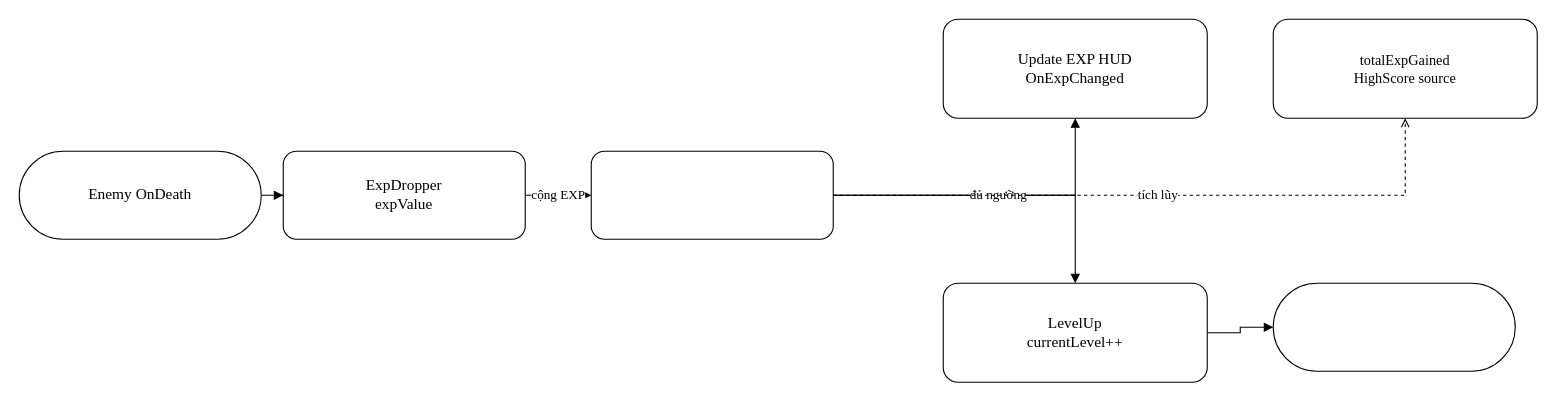
Image size: 1557x402. Some labels were removed from this diagram. The shapes that lost their labels are listed below. From the top down, each one's centre as x and y in pixels, then its label:
the point at 711,194: PlayerLevelSystem AddExp
the point at 1393,326: OnLevelUp
